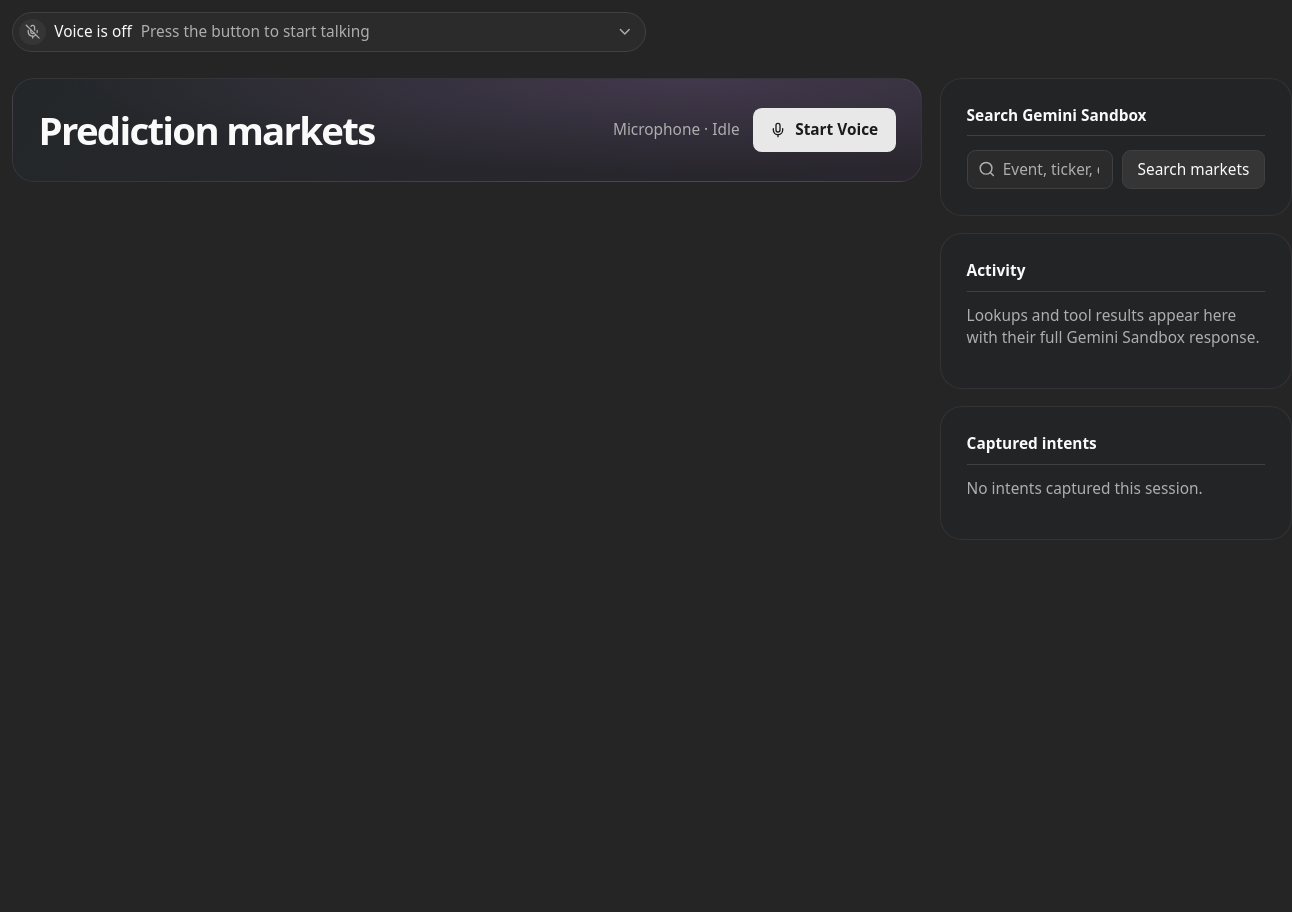
Test: offers a short spoken confirmation even when the browser clock is ahead
Click the button "Start Voice".
click(824, 130)  # box [753, 108, 896, 152]
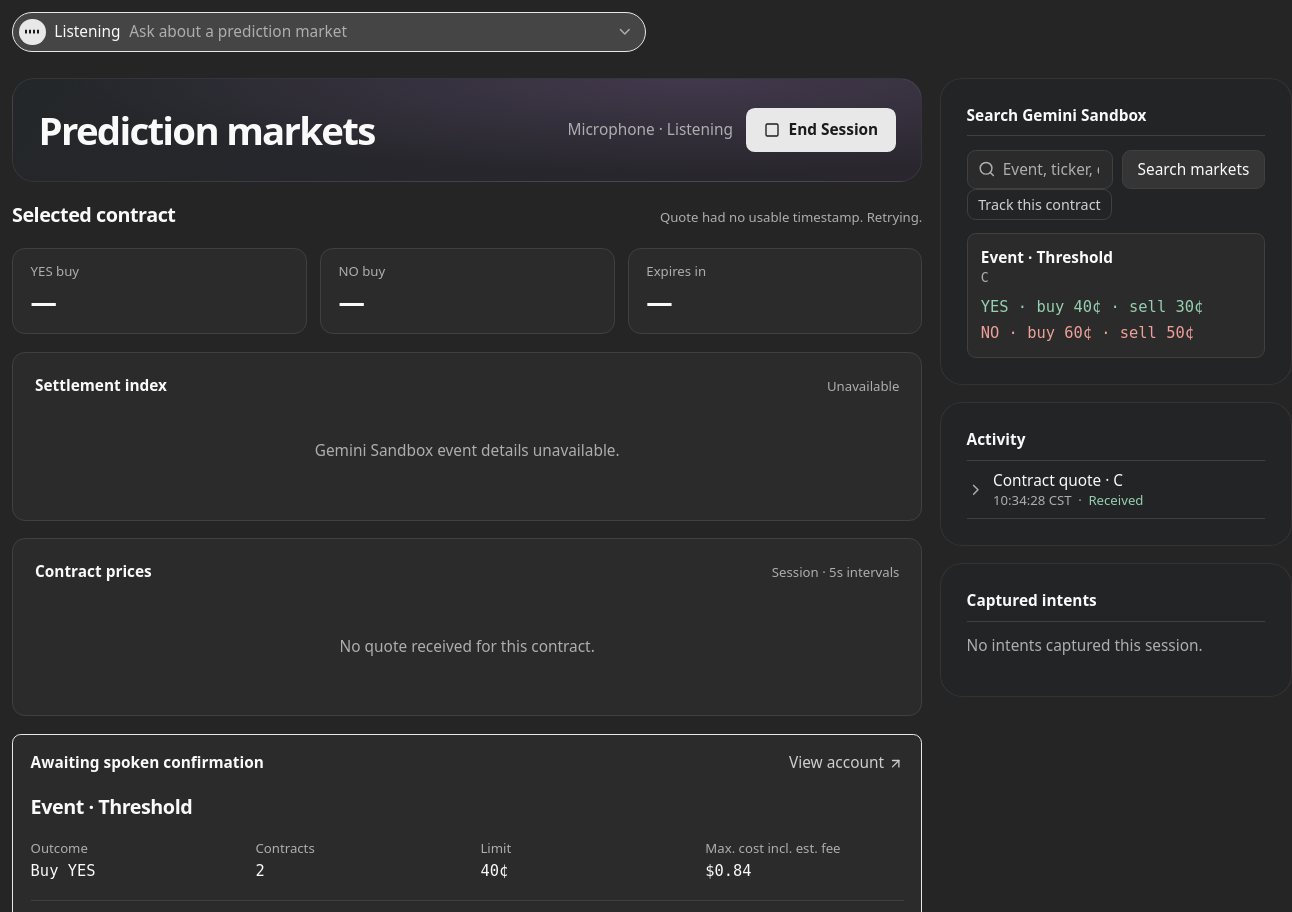
Expected: the text "Microphone · Listening" is shown, [568, 119, 733, 141]
Expected: the text "Awaiting spoken confirmation" is shown, [31, 752, 264, 774]
